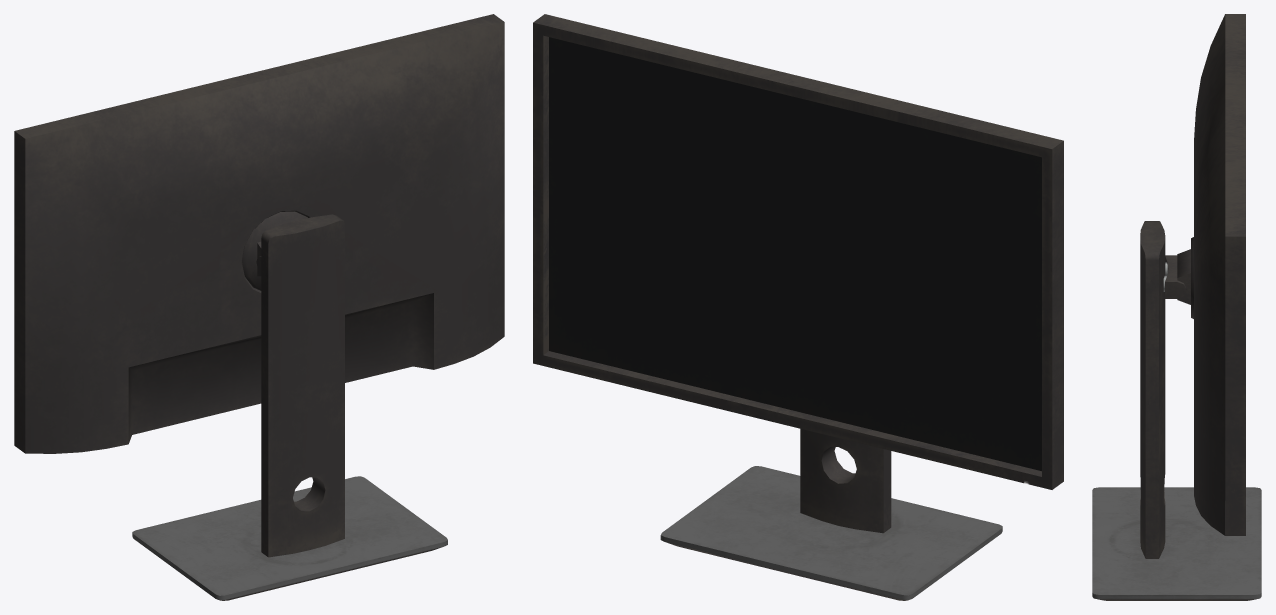
Rendered from Monitor_01.fbx.
3 views of the same model, side by side, from view 1: azimuth 30°, elevation 25°; view 2: azimuth 150°, elevation 25°; view 3: azimuth 270°, elevation 25° (orthographic). The views are drawn at different scales.
Parts seen in each view (by area): view 1: Monitor_01_LOD00; view 2: Monitor_01_LOD00; view 3: Monitor_01_LOD00.
Boxes of the visible parts, x1,y1,x2,y2 form: Monitor_01_LOD00: (14,14,504,600); Monitor_01_LOD00: (533,14,1063,600); Monitor_01_LOD00: (1092,14,1261,600).
Size of what is drawn, in the model's own units: 79.63 by 71.01 by 25.66.
